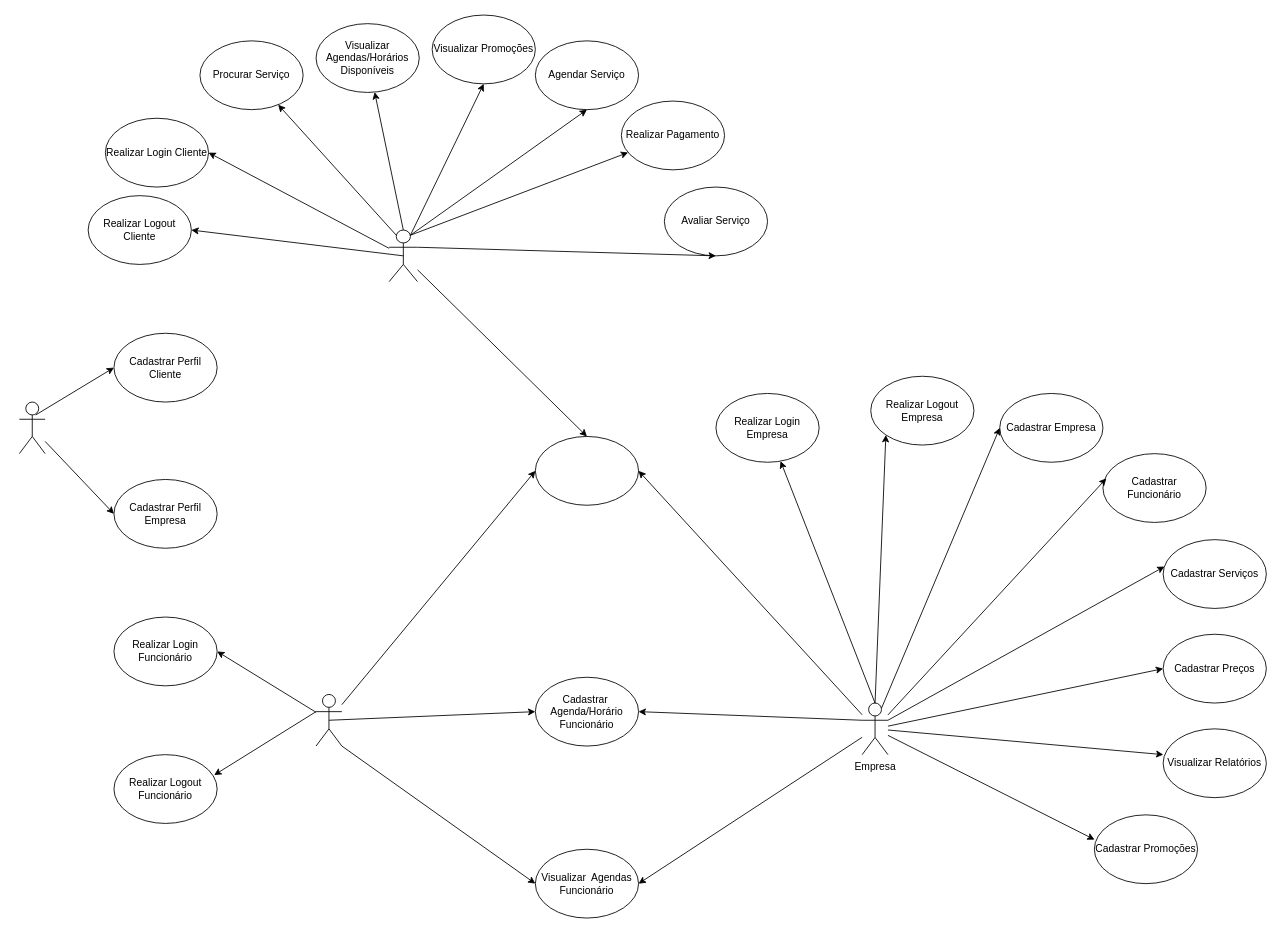
The diagram is 1281 pixels wide and 933 high, and some of its shapes have lost their labels. Here are the shapes that lost their labels. From the top down, the box of each, then its label:
(388, 229, 418, 282): Cliente
(18, 401, 45, 454): Usuário
(534, 436, 639, 505): Visualizar Avaliações Funcionário
(315, 694, 342, 746): Funcionário
